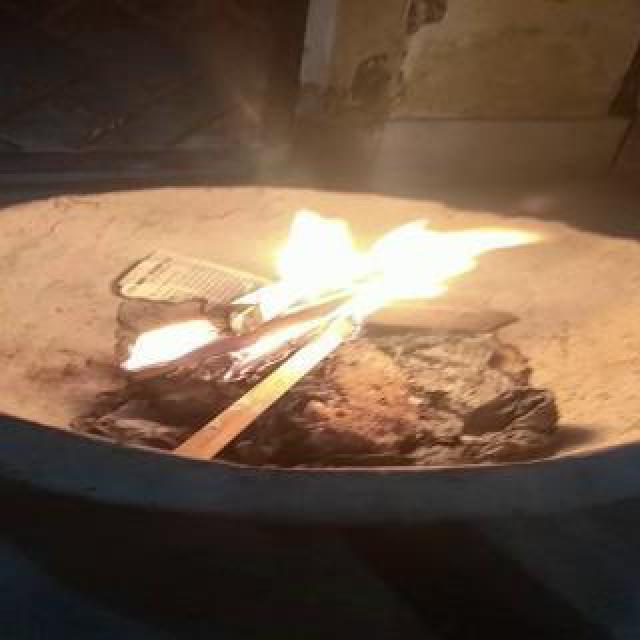Fire: (68, 174, 542, 376)
